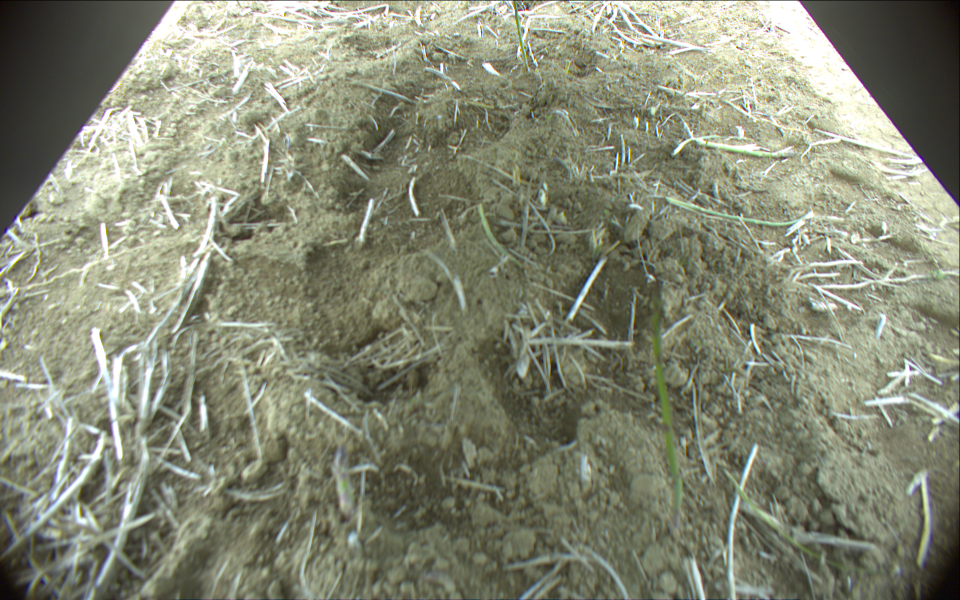aspa: (649, 277, 689, 534), (476, 200, 527, 269), (666, 197, 807, 221), (671, 133, 796, 159), (510, 1, 530, 69)
